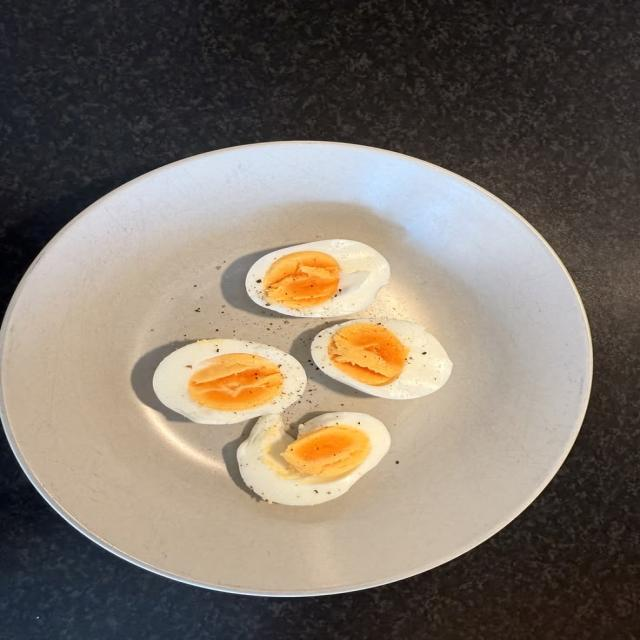egg boiled: (238, 412, 390, 505), (154, 339, 306, 424), (246, 239, 390, 317), (312, 319, 452, 399)
